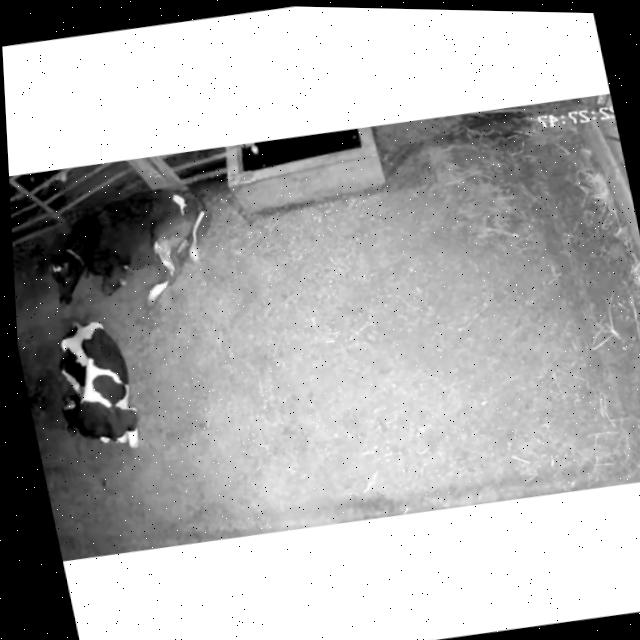lay: (10, 174, 231, 324), (20, 303, 167, 476)
